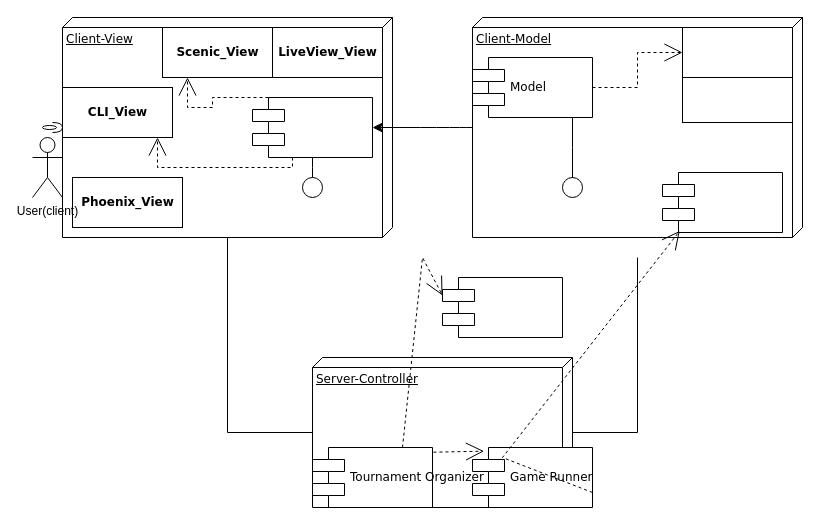
The diagram is 820 pixels wide and 528 high, and some of its shapes have lost their labels. The shapes that lost their labels are listed below. From the top down, each one's centre as x and y in pixels, then its label:
At point 737,52: "Board".
At point 737,99: "Piece".
At point 312,127: "View".
At point 722,202: "Referee".
At point 502,307: "Player".
